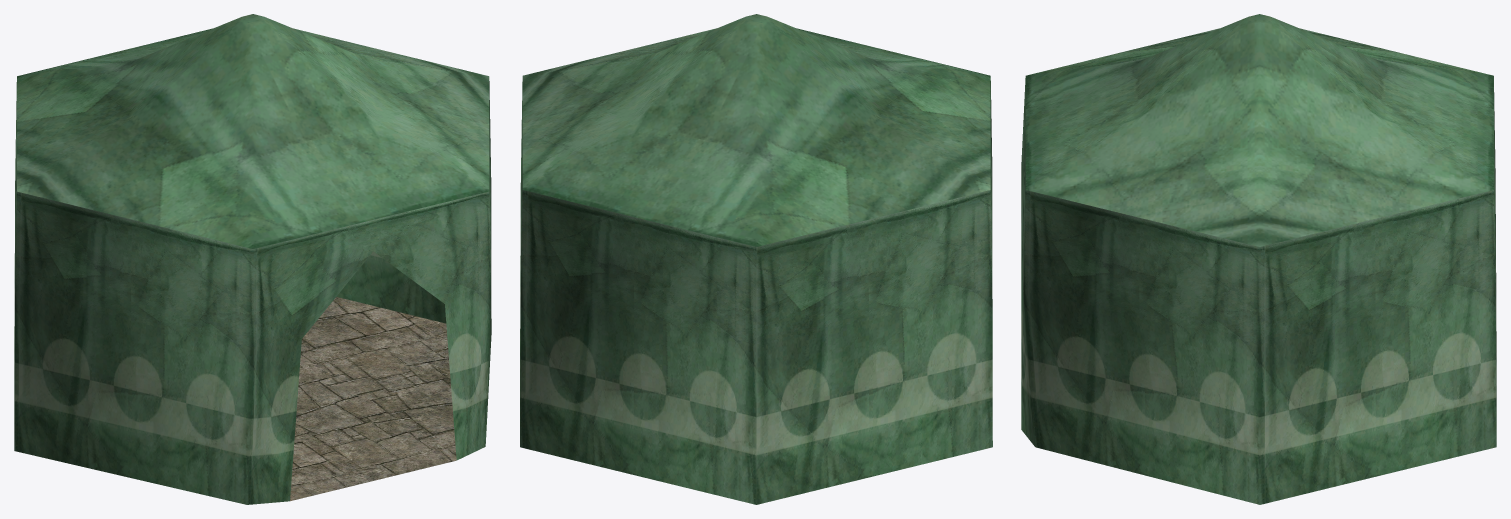
The model's file is ply_nboo_merchant_tent_s01_r1_mesh_r1.fbx.
3 views of the same model, side by side, from view 1: azimuth 30°, elevation 25°; view 2: azimuth 150°, elevation 25°; view 3: azimuth 270°, elevation 25° (orthographic).
Visible parts, largest first — view 1: mesh_node; view 2: mesh_node; view 3: mesh_node.
Boxes of the visible parts, left/top/right/bottom form: mesh_node: left=14, top=14, right=491, bottom=504; mesh_node: left=520, top=14, right=992, bottom=504; mesh_node: left=1021, top=14, right=1496, bottom=504.
Bounding box in the file's own units: 6.66 × 4.98 × 5.79.
